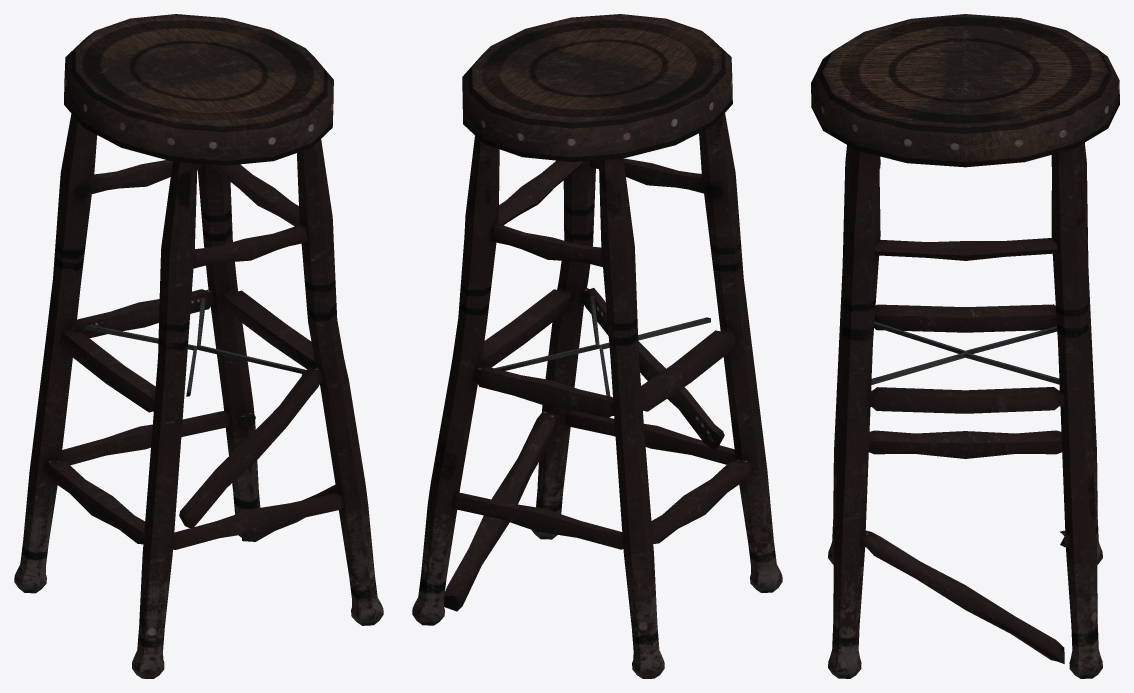
The model's file is Lab Stool Broken.fbx.
3 renders of one model, left to right at view 1: azimuth 30°, elevation 25°; view 2: azimuth 150°, elevation 25°; view 3: azimuth 270°, elevation 25°, orthographic. The views are drawn at different scales.
Parts seen in each view (by area): view 1: Cylinder_001; view 2: Cylinder_001; view 3: Cylinder_001.
Boxes of the visible parts, box(x1,y1,x2,y2) form: Cylinder_001: box(14, 14, 383, 678); Cylinder_001: box(412, 14, 782, 678); Cylinder_001: box(811, 14, 1119, 678).
Bounding box in the file's own units: 49.58 × 105 × 53.02.
